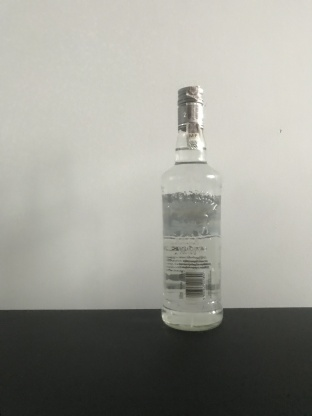nakretka: (175, 83, 205, 131)
